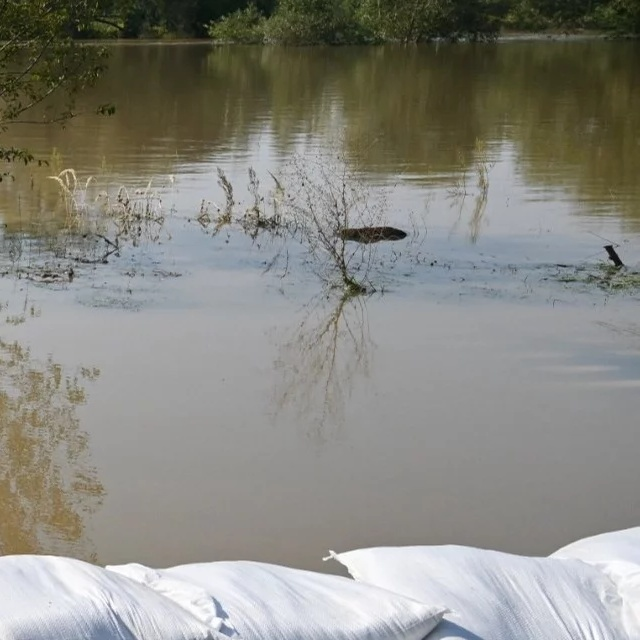sandbag: (336, 543, 614, 640), (106, 561, 440, 640), (0, 555, 219, 640), (551, 530, 640, 640)
